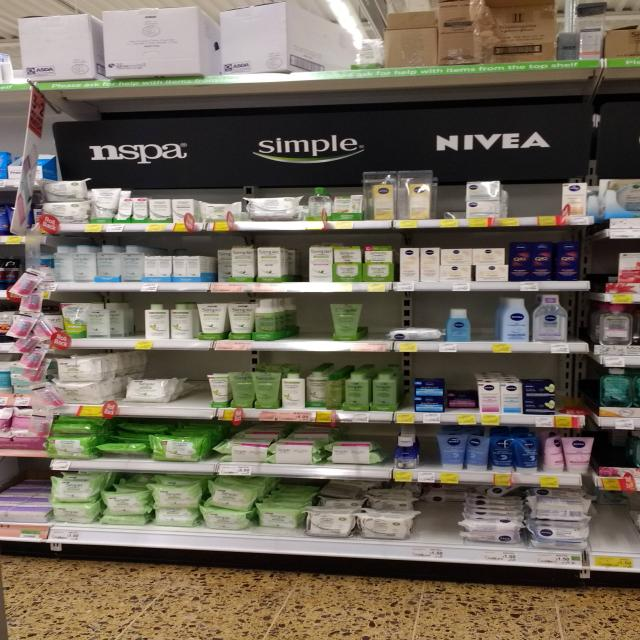void: (594, 488, 640, 570), (420, 484, 464, 564), (177, 353, 209, 418), (560, 357, 587, 426), (437, 162, 465, 228), (530, 169, 560, 225), (500, 167, 528, 225), (304, 297, 334, 351), (116, 298, 145, 351), (475, 295, 501, 354), (363, 296, 389, 353), (275, 297, 302, 351)
